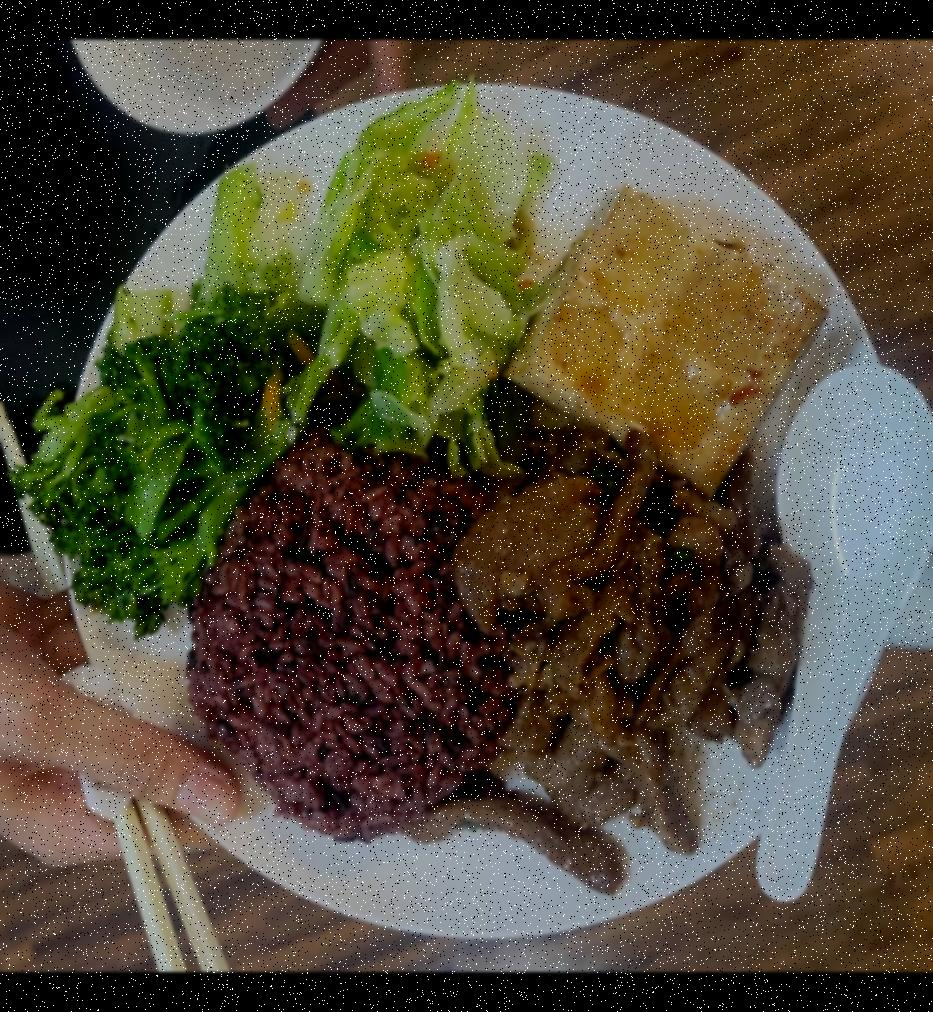plate: (38, 72, 908, 962)
purple rice: (194, 424, 530, 852)
shacha pork: (456, 442, 808, 892)
side dish: (32, 192, 328, 652), (501, 174, 838, 494), (314, 90, 542, 452)
